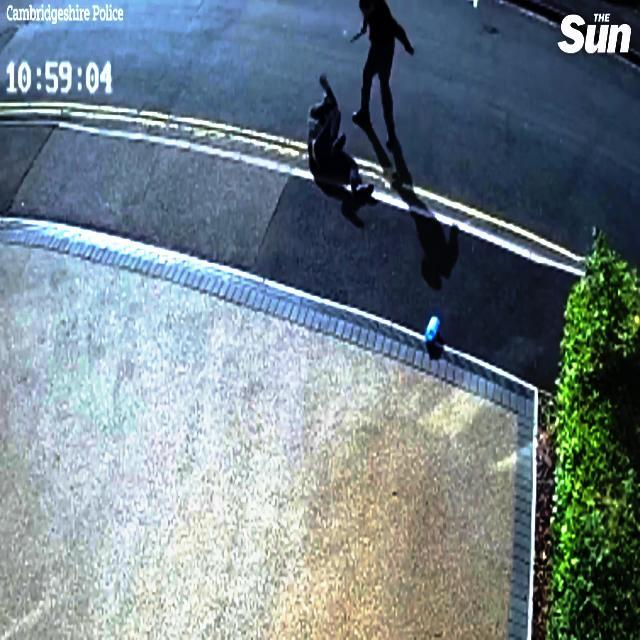Knife: (344, 22, 368, 50)
